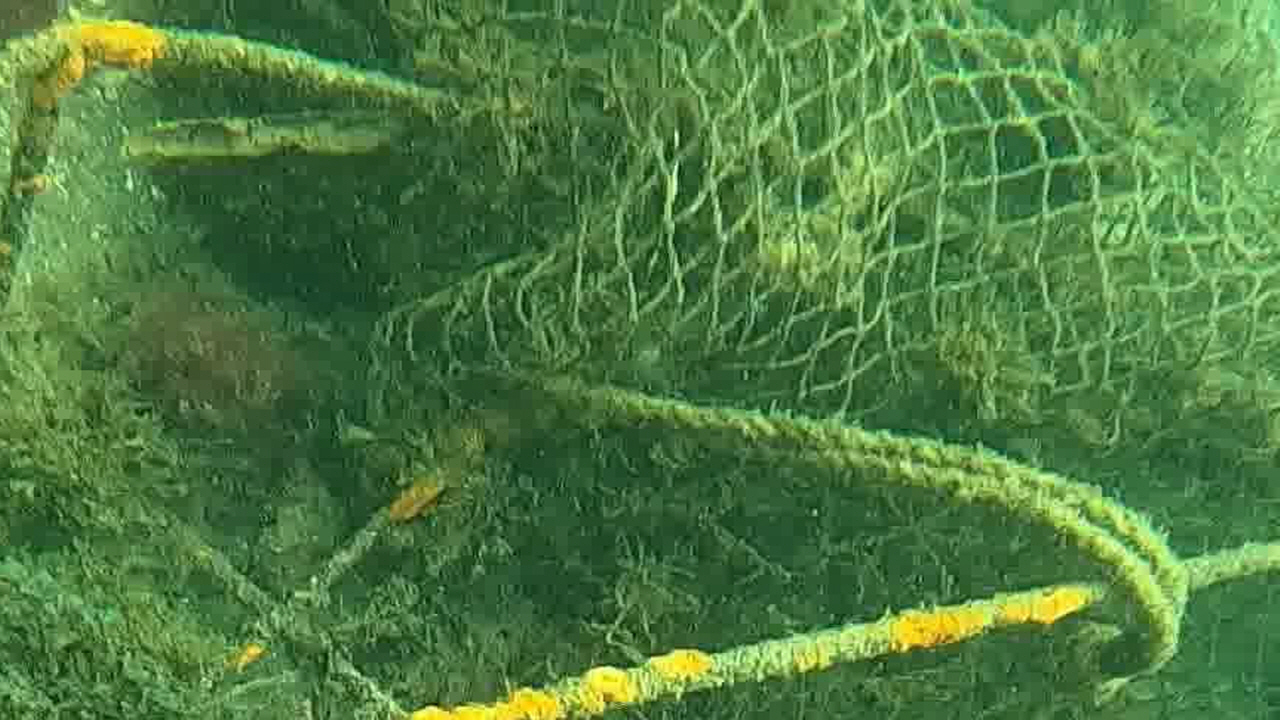bundle of ropes: (530, 375, 1189, 681)
fish net: (364, 0, 1280, 417)
